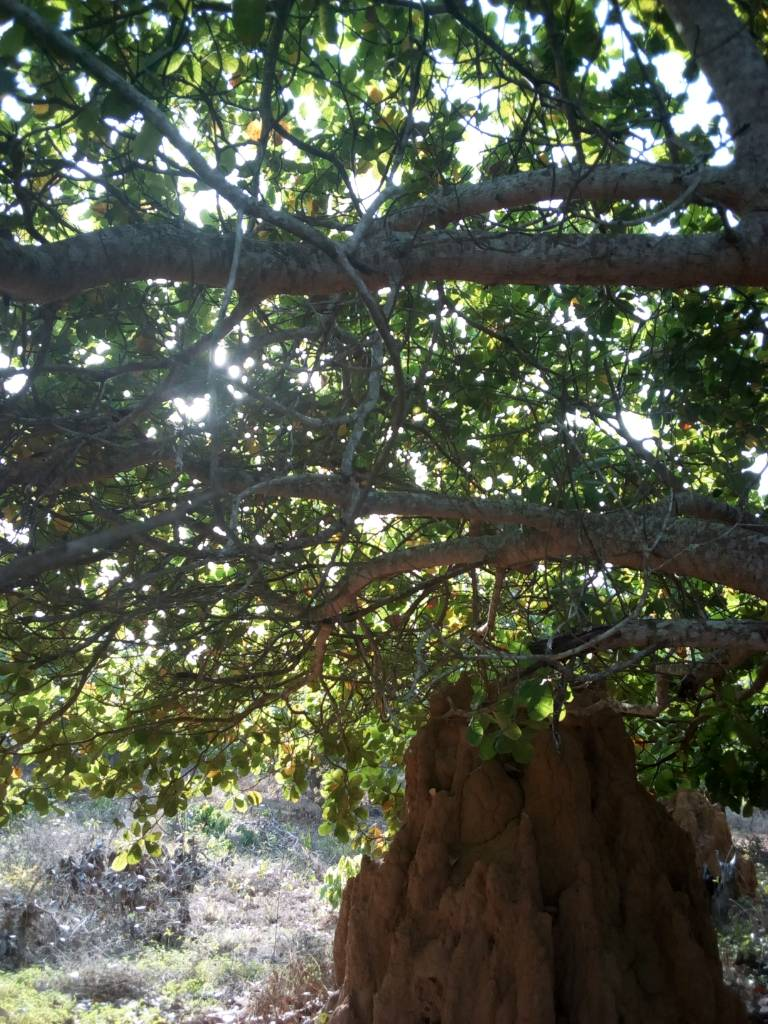Termites: (418, 755, 725, 1024), (335, 857, 410, 1017)
